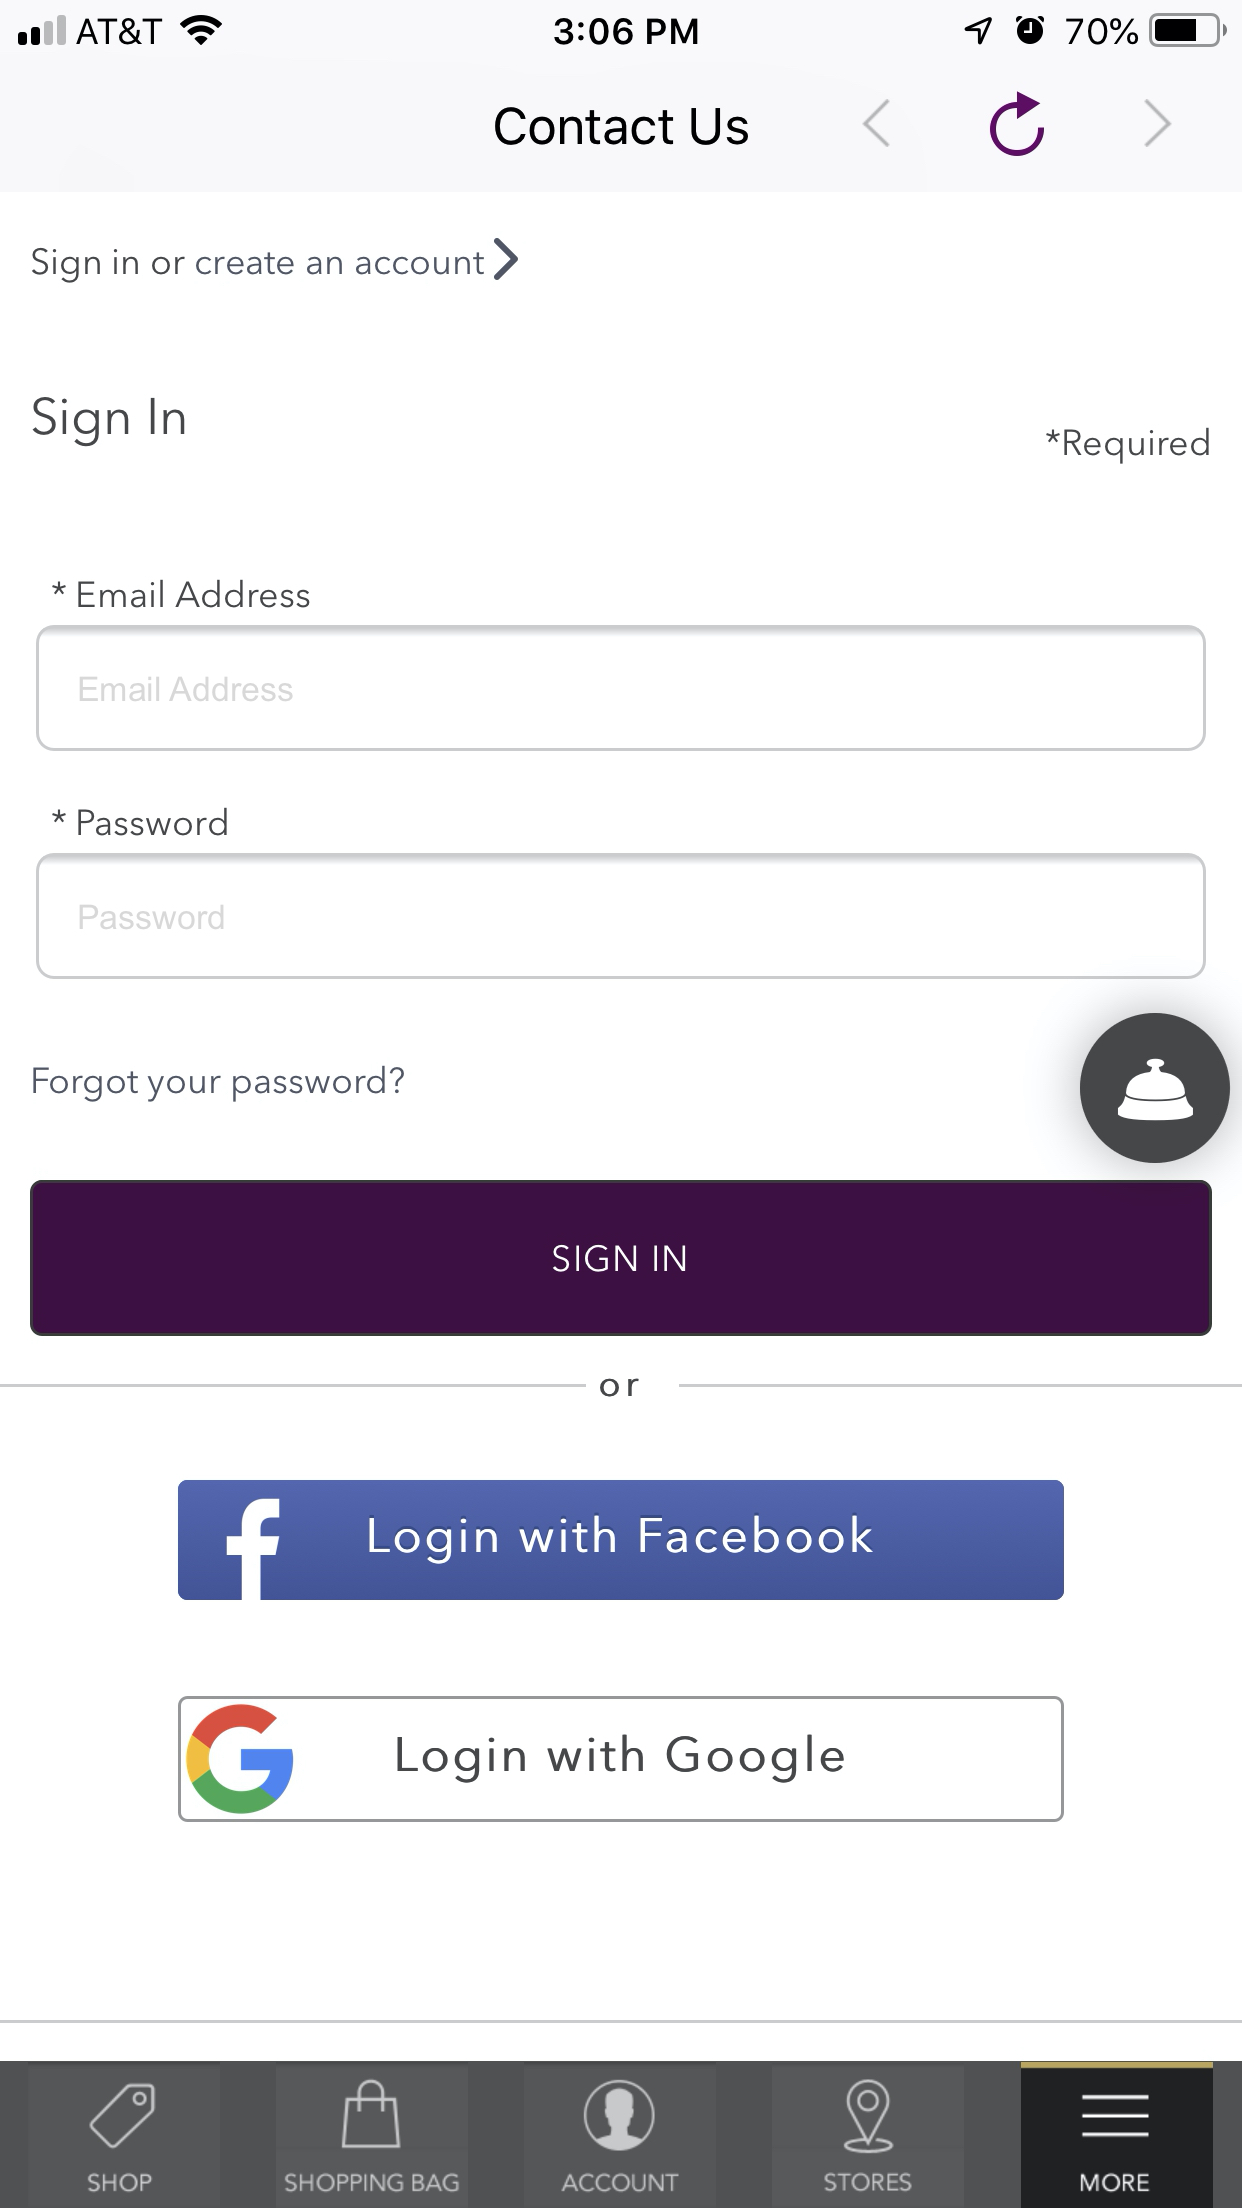EditText: (36, 852, 1207, 980), (36, 625, 1207, 752)
Icon: (584, 2079, 657, 2152), (89, 2082, 158, 2149), (343, 2079, 403, 2149), (843, 2078, 895, 2153), (990, 93, 1045, 158), (1081, 2094, 1149, 2138), (861, 99, 892, 149), (1143, 99, 1172, 149), (493, 238, 519, 282)
Image: (1080, 1011, 1231, 1165)
Text: (33, 249, 485, 285), (33, 1065, 405, 1102), (494, 108, 749, 146), (52, 579, 311, 610), (33, 397, 187, 447), (1046, 429, 1209, 466), (79, 676, 294, 704), (52, 807, 229, 837), (284, 2172, 461, 2193), (80, 904, 224, 930), (561, 2172, 679, 2193), (823, 2172, 913, 2193), (1080, 2172, 1149, 2193), (88, 2172, 155, 2193), (601, 1378, 640, 1398)
TextButton: (30, 1180, 1212, 1338), (177, 1695, 1065, 1821), (177, 1480, 1065, 1600)
UpperTaskBar: (2, 2, 1242, 49)
